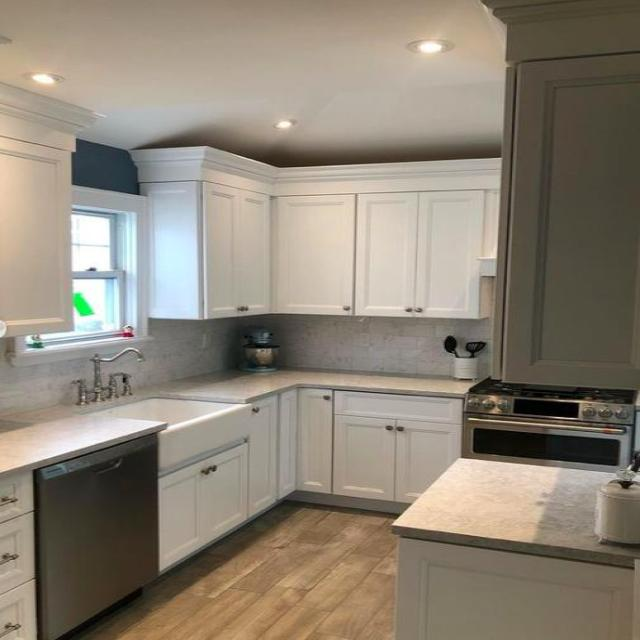dishwasher: (35, 432, 158, 639)
